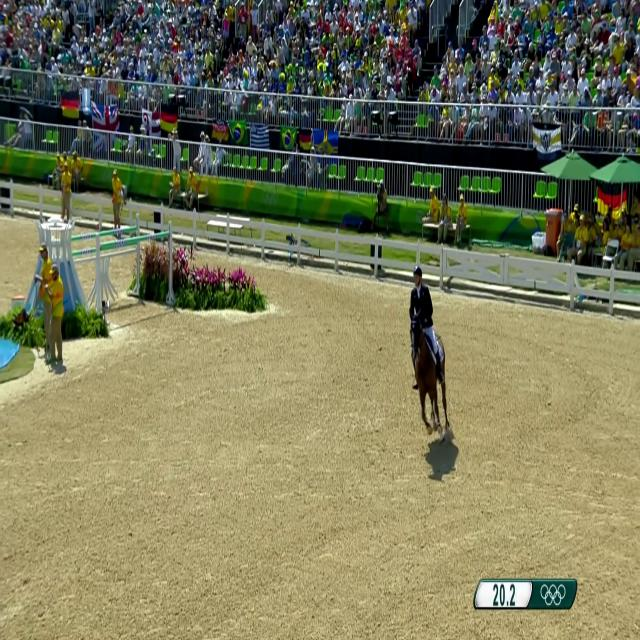Horse Running: (399, 276, 473, 470)
